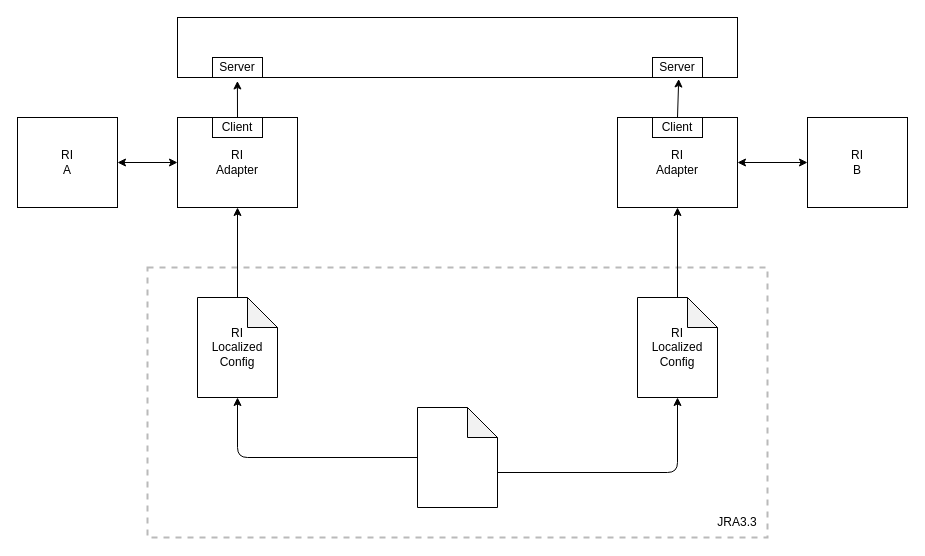
The diagram is 925 pixels wide and 556 high, and some of its shapes have lost their labels. The shapes that lost their labels are listed below. From the top down, each one's box as (x1, y1, x2, y2) in pixels, then its label:
(176, 16, 738, 78): Transport
(416, 406, 498, 508): Global Experiment Config
